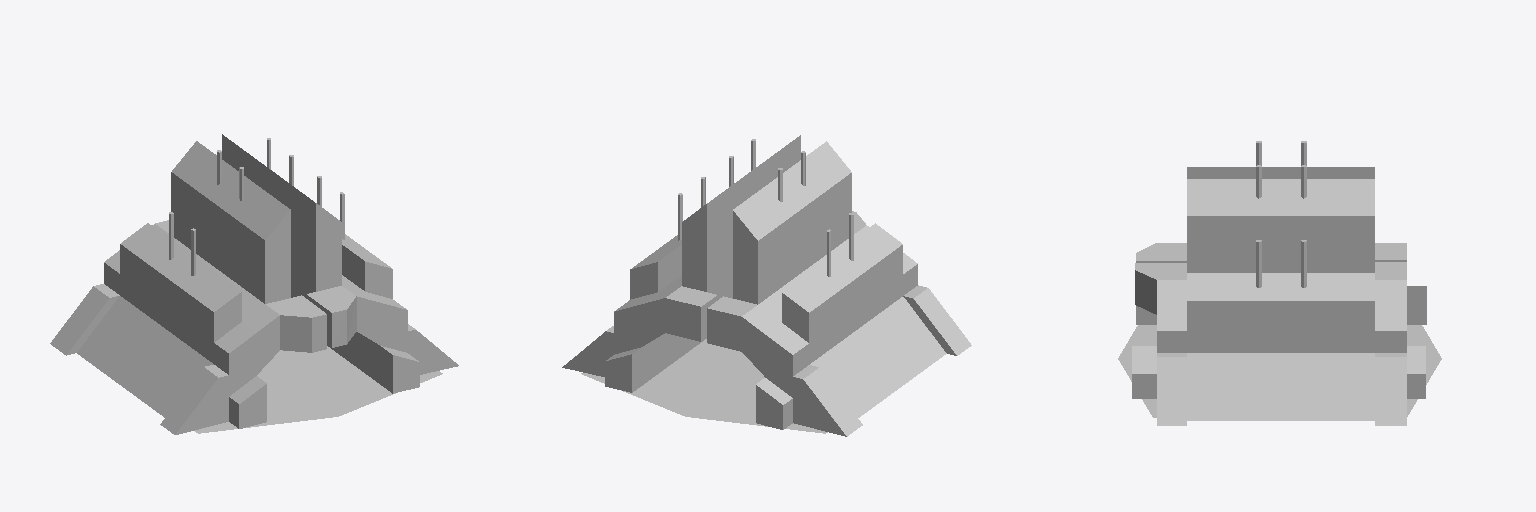
File: Headquarter.obj
The picture shows the model from 3 angles: view 1: azimuth 30°, elevation 25°; view 2: azimuth 150°, elevation 25°; view 3: azimuth 270°, elevation 25°; orthographic projection.
Bounding box in the file's own units: 12 × 8.2 × 11.81.